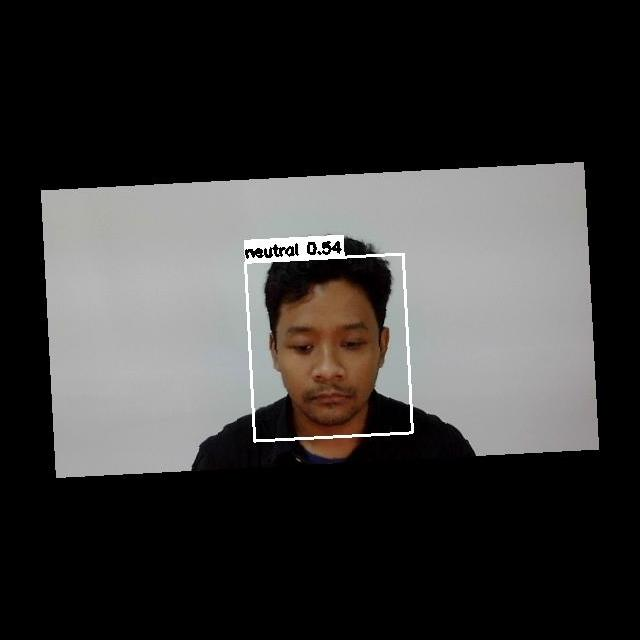Natural: (275, 317, 383, 412)
